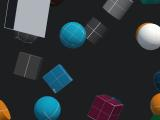Right: (5, 0, 50, 38)
